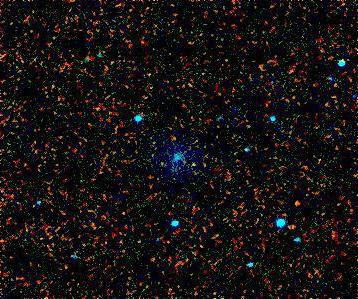star: (281, 213, 311, 243)
